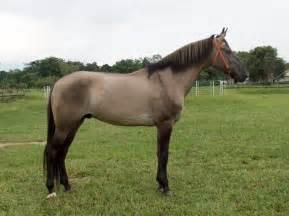horse: (42, 26, 249, 199)
